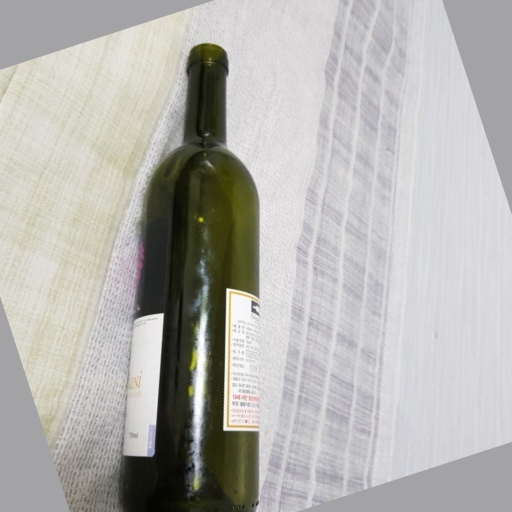Glass_2: (112, 44, 273, 512)
